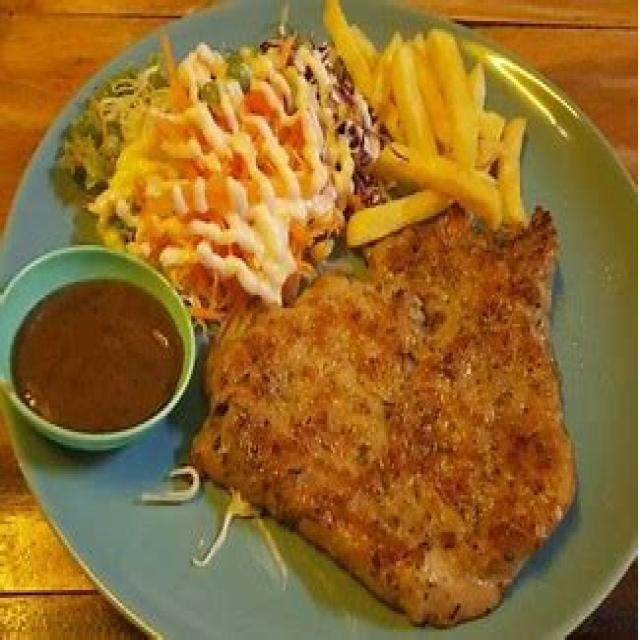cac loai rau cu: (64, 28, 362, 306)
khoai tay chien: (323, 4, 536, 242)
thit heo: (212, 203, 581, 614)
thit lon bistek: (63, 0, 580, 636)
